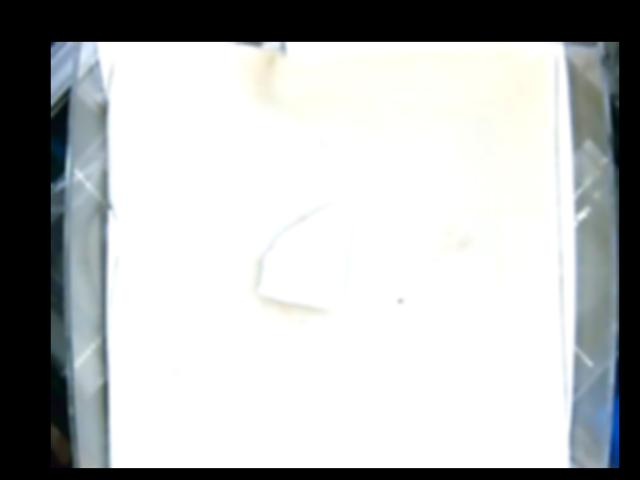China: (257, 197, 356, 310)
